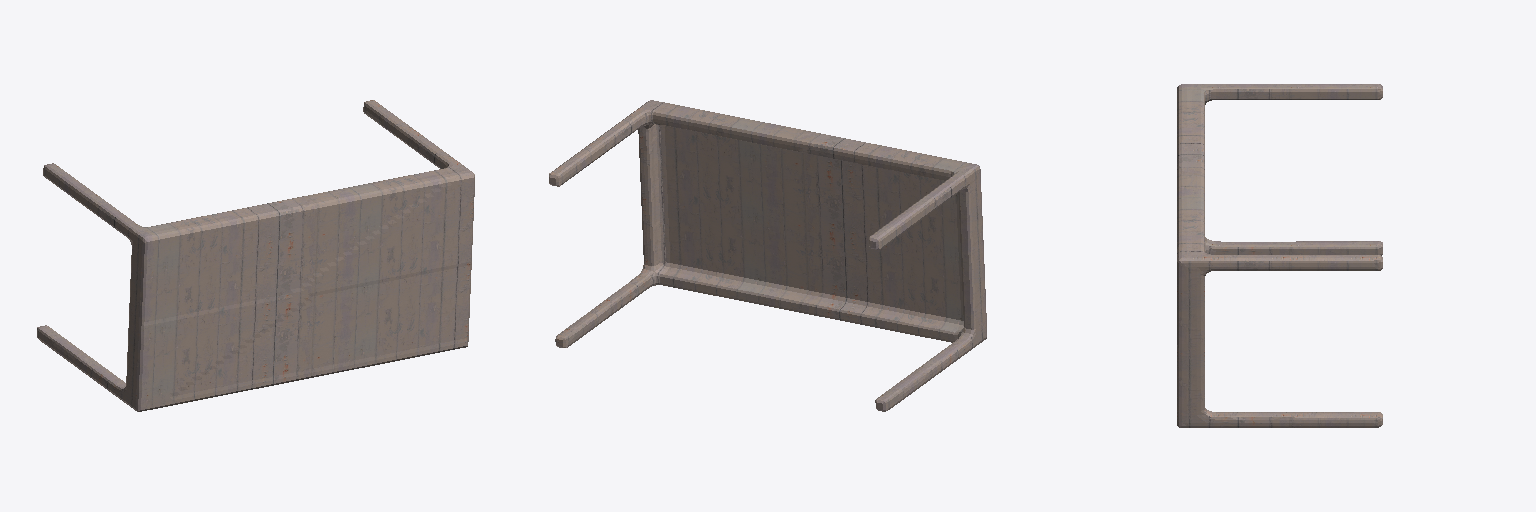
The picture shows the model from 3 angles: view 1: azimuth 30°, elevation 25°; view 2: azimuth 150°, elevation 25°; view 3: azimuth 270°, elevation 25°; orthographic projection.
Bounding box in the file's own units: 1.56 × 0.8306 × 0.8261.
Materials: 1 (1 with a texture image).